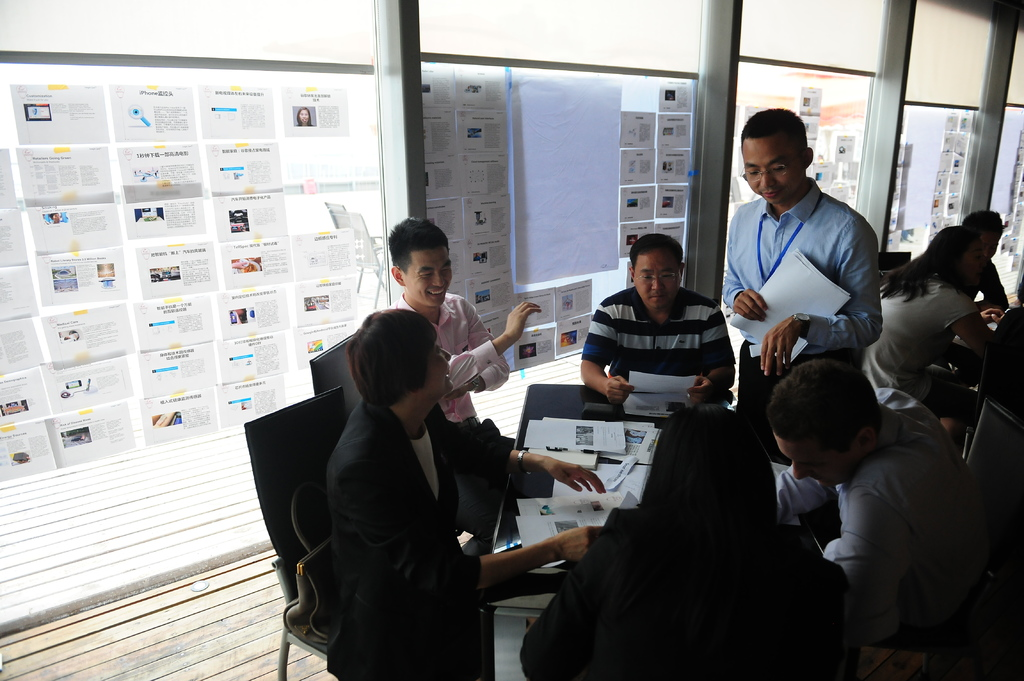Human_hand: (755, 316, 805, 381), (544, 458, 610, 495), (557, 527, 604, 567), (502, 301, 541, 340), (732, 289, 770, 324), (600, 373, 636, 408), (684, 377, 717, 408), (444, 382, 470, 402), (981, 308, 1009, 322)
